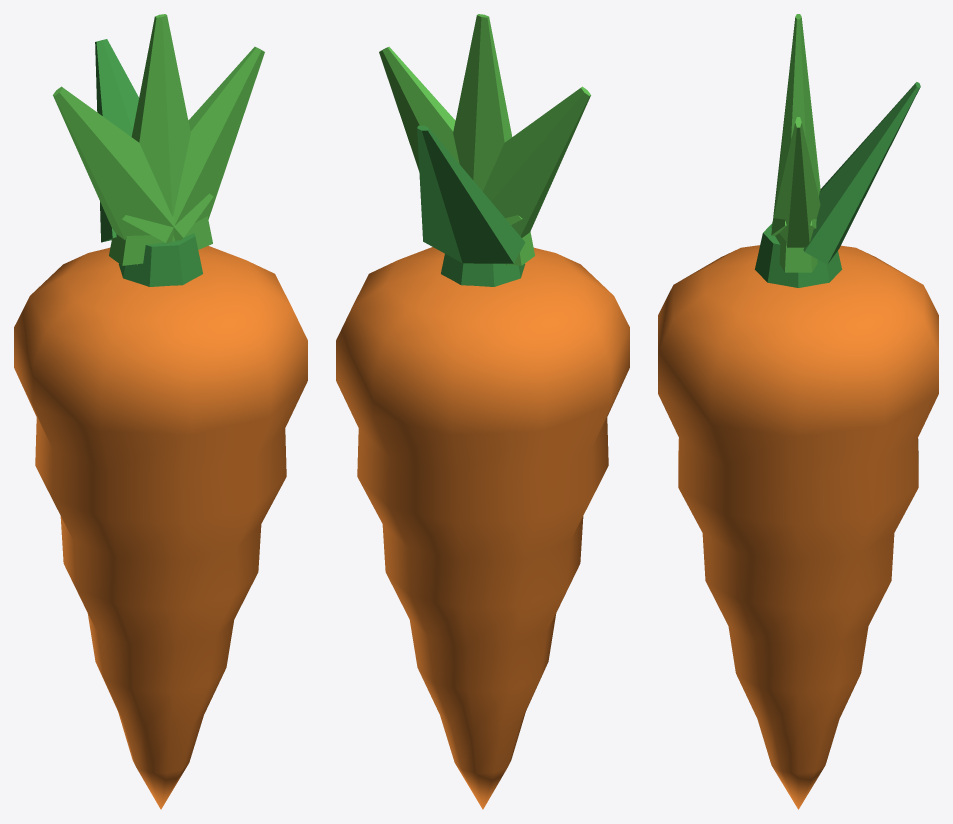
Rendered from cenoura.glb.
3 views of the same model, side by side, from view 1: azimuth 30°, elevation 25°; view 2: azimuth 150°, elevation 25°; view 3: azimuth 270°, elevation 25° (orthographic).
Visible parts, largest first — view 1: corpo, folhas; view 2: corpo, folhas; view 3: corpo, folhas.
Part boxes in pixels (box(x1,y1,x2,y2)): corpo: box(14, 246, 307, 809); folhas: box(53, 14, 264, 286); corpo: box(336, 247, 629, 809); folhas: box(379, 14, 590, 286); corpo: box(658, 245, 938, 809); folhas: box(754, 14, 920, 287).
Bounding box in the file's own units: 0.166 × 0.4921 × 0.1579.
